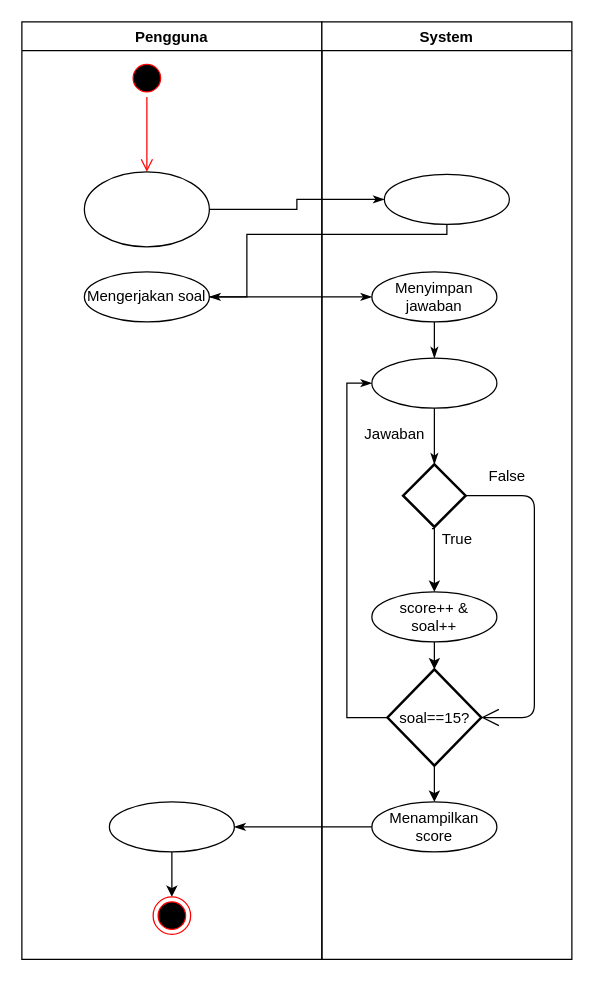
This 594x981 diagram has some shape labels left out. Here are the shapes that lost their labels. From the top down, the centre of each, then its label:
At point (146, 209): "Membuka latihan soal".
At point (446, 198): "Menampilkan soal".
At point (434, 382): "score == 0 & soal == 0".
At point (171, 826): "Melihat score".
